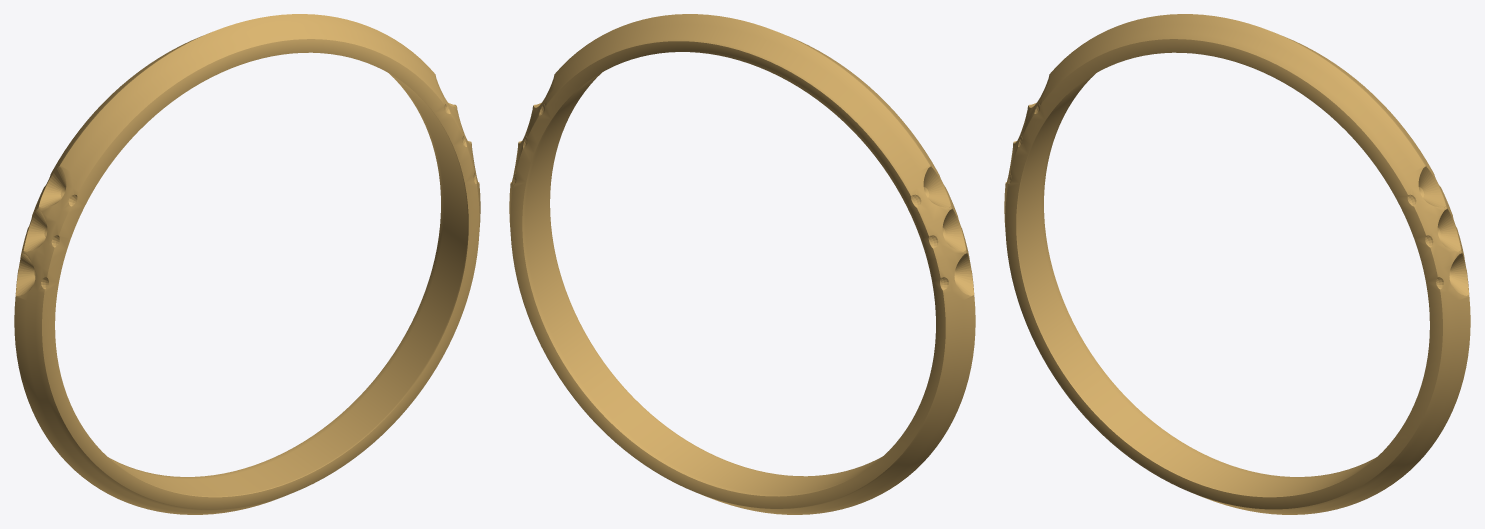
The model's file is knife-edge-scalloped-u-cut-wide.glb.
The picture shows the model from 3 angles, left to right: view 1: azimuth 30°, elevation 25°; view 2: azimuth 150°, elevation 25°; view 3: azimuth 330°, elevation 25°; orthographic projection.
Visible parts, largest first — view 1: Band; view 2: Band; view 3: Band.
Part boxes in pixels (x1,y1,x2,y2): Band: (14, 14, 480, 514); Band: (509, 14, 975, 514); Band: (1004, 14, 1470, 514).
Bounding box in the file's own units: 19.6 × 19.6 × 2.1.
